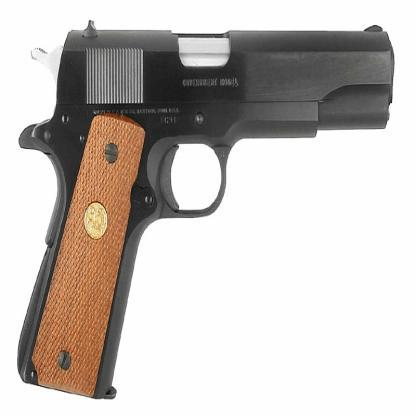gun: (5, 5, 400, 410)
